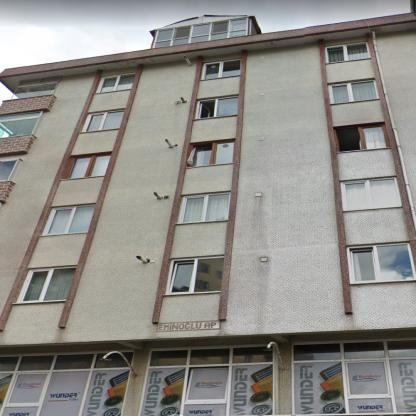window: (294, 340, 416, 412), (145, 345, 272, 414), (0, 351, 134, 414), (152, 17, 249, 48), (348, 244, 414, 282), (168, 257, 223, 293), (21, 267, 75, 302), (344, 178, 400, 210), (46, 205, 95, 235), (182, 193, 230, 223), (336, 125, 385, 151), (188, 140, 235, 166), (10, 76, 61, 98), (0, 111, 42, 137), (67, 154, 111, 178), (332, 80, 377, 102), (196, 96, 238, 118), (327, 42, 370, 63), (84, 110, 124, 132), (97, 73, 135, 92), (204, 60, 240, 79), (1, 160, 17, 180)
